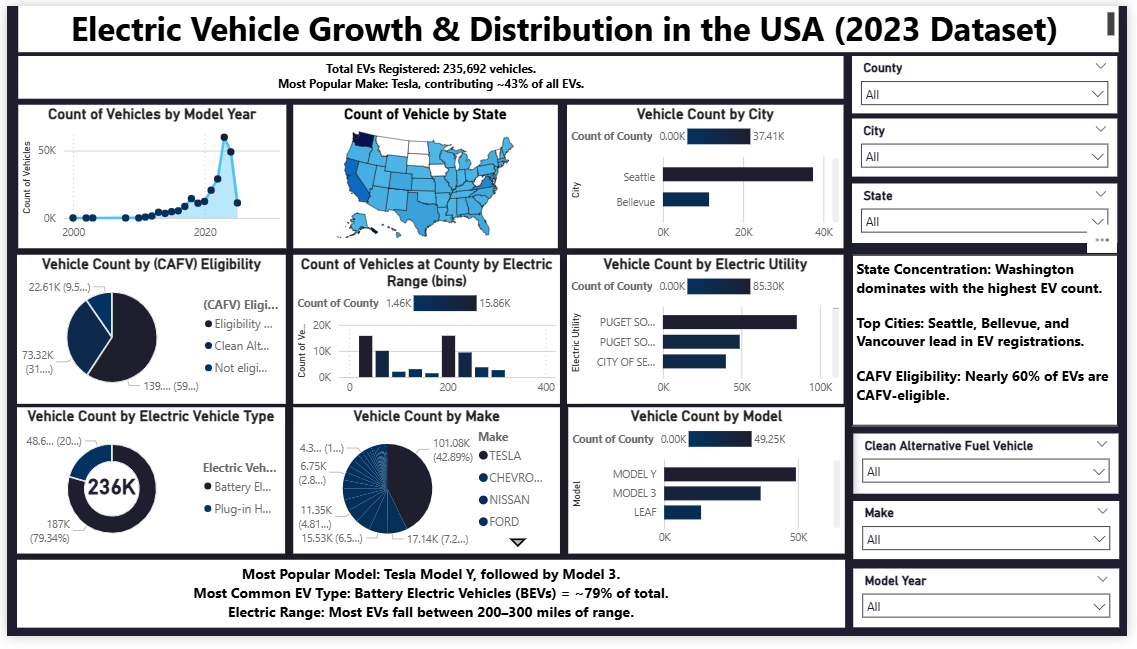

The page's visual inventory and layout, read from the dashboard file:
{"tool":"powerbi","page":{"name":"Page 1","canvas":[1280,720],"ordinal":0},"visuals":[{"type":"textbox","box":[12.5,0,1257.5,52.5],"z":0},{"type":"lineChart","fields":{"Y":["CountNonNull(Electric_Vehicle_Population_Dat.DOL Vehicle ID)"],"Category":["Electric_Vehicle_Population_Dat.Model Year"]},"box":[15,113.3,305,163.3],"z":1000},{"type":"shapeMap","fields":{"Category":["Electric_Vehicle_Population_Dat.State"],"Value":["CountNonNull(Electric_Vehicle_Population_Dat.DOL Vehicle ID)"]},"box":[327.5,112.5,305,164.2],"z":2000},{"type":"clusteredBarChart","fields":{"Category":["Electric_Vehicle_Population_Dat.City"],"Y":["CountNonNull(Electric_Vehicle_Population_Dat.DOL Vehicle ID)"]},"box":[640,112.5,316.2,163.8],"z":3000},{"type":"slicer","fields":{"Values":["Electric_Vehicle_Population_Dat.County"]},"box":[965.4,57.7,303.1,65.4],"z":4000},{"type":"slicer","fields":{"Values":["Electric_Vehicle_Population_Dat.City"]},"box":[965.4,128.5,303.1,66.2],"z":5000},{"type":"slicer","fields":{"Values":["Electric_Vehicle_Population_Dat.State"]},"box":[965.4,202.3,303.1,67.7],"z":6000},{"type":"pieChart","fields":{"Category":["Electric_Vehicle_Population_Dat.Clean Alternative Fuel Vehicle (CAFV) Eligibility"],"Y":["CountNonNull(Electric_Vehicle_Population_Dat.DOL Vehicle ID)"]},"box":[11.7,284.2,308.3,170],"z":7000},{"type":"clusteredColumnChart","fields":{"Y":["CountNonNull(Electric_Vehicle_Population_Dat.DOL Vehicle ID)"],"Category":["Electric_Vehicle_Population_Dat.Electric Range (bins)"]},"box":[327.5,283.8,305,170],"z":8000},{"type":"clusteredBarChart","fields":{"Y":["CountNonNull(Electric_Vehicle_Population_Dat.DOL Vehicle ID)"],"Category":["Electric_Vehicle_Population_Dat.Electric Utility"]},"box":[640,283.8,316.2,170],"z":9000},{"type":"donutChart","fields":{"Y":["CountNonNull(Electric_Vehicle_Population_Dat.DOL Vehicle ID)"],"Category":["Electric_Vehicle_Population_Dat.Electric Vehicle Type"]},"box":[11.2,458.8,306.2,167.5],"z":10000},{"type":"card","fields":{"Values":["CountNonNull(Electric_Vehicle_Population_Dat.DOL Vehicle ID)"]},"box":[82.5,532.5,73.8,32.5],"z":11000},{"type":"slicer","fields":{"Values":["Electric_Vehicle_Population_Dat.Clean Alternative Fuel Vehicle (CAFV) Eligibility"]},"box":[966.9,489.2,303.1,68.5],"z":12000},{"type":"pieChart","fields":{"Y":["CountNonNull(Electric_Vehicle_Population_Dat.DOL Vehicle ID)"],"Category":["Electric_Vehicle_Population_Dat.Make"]},"box":[327.5,458.8,305,167.5],"z":13000},{"type":"clusteredBarChart","fields":{"Y":["CountNonNull(Electric_Vehicle_Population_Dat.DOL Vehicle ID)"],"Category":["Electric_Vehicle_Population_Dat.Model"]},"box":[641.2,458.8,316.2,167.5],"z":14000},{"type":"slicer","fields":{"Values":["Electric_Vehicle_Population_Dat.Make"]},"box":[967.5,566.2,303.8,66.2],"z":15000},{"type":"slicer","fields":{"Values":["Electric_Vehicle_Population_Dat.Model Year"]},"box":[967.5,642.5,303.8,67.5],"z":16000},{"type":"textbox","box":[11.2,632.5,946.2,77.5],"z":17000},{"type":"textbox","box":[966.2,283.8,303.8,196.2],"z":18000},{"type":"textbox","box":[12.8,57.8,943.3,48.9],"z":19000}]}

Visuals, with their boxes in screenshot pixels (x1, y1, x2, y2), scaled from the page's 1280x720 canvas onto the 1137x649 screenshot:
textbox: crop(11, 0, 1128, 47)
lineChart - CountNonNull(Electric_Vehicle_Population_Dat.DOL Vehicle ID) x Electric_Vehicle_Population_Dat.Model Year: crop(13, 102, 284, 249)
shapeMap - Electric_Vehicle_Population_Dat.State x CountNonNull(Electric_Vehicle_Population_Dat.DOL Vehicle ID): crop(291, 101, 562, 249)
clusteredBarChart - Electric_Vehicle_Population_Dat.City x CountNonNull(Electric_Vehicle_Population_Dat.DOL Vehicle ID): crop(568, 101, 849, 249)
slicer - Electric_Vehicle_Population_Dat.County: crop(858, 52, 1127, 111)
slicer - Electric_Vehicle_Population_Dat.City: crop(858, 116, 1127, 176)
slicer - Electric_Vehicle_Population_Dat.State: crop(858, 182, 1127, 243)
pieChart - Electric_Vehicle_Population_Dat.Clean Alternative Fuel Vehicle (CAFV) Eligibility x CountNonNull(Electric_Vehicle_Population_Dat.DOL Vehicle ID): crop(10, 256, 284, 409)
clusteredColumnChart - CountNonNull(Electric_Vehicle_Population_Dat.DOL Vehicle ID) x Electric_Vehicle_Population_Dat.Electric Range (bins): crop(291, 256, 562, 409)
clusteredBarChart - CountNonNull(Electric_Vehicle_Population_Dat.DOL Vehicle ID) x Electric_Vehicle_Population_Dat.Electric Utility: crop(568, 256, 849, 409)
donutChart - CountNonNull(Electric_Vehicle_Population_Dat.DOL Vehicle ID) x Electric_Vehicle_Population_Dat.Electric Vehicle Type: crop(10, 414, 282, 565)
card - CountNonNull(Electric_Vehicle_Population_Dat.DOL Vehicle ID): crop(73, 480, 139, 509)
slicer - Electric_Vehicle_Population_Dat.Clean Alternative Fuel Vehicle (CAFV) Eligibility: crop(859, 441, 1128, 503)
pieChart - CountNonNull(Electric_Vehicle_Population_Dat.DOL Vehicle ID) x Electric_Vehicle_Population_Dat.Make: crop(291, 414, 562, 565)
clusteredBarChart - CountNonNull(Electric_Vehicle_Population_Dat.DOL Vehicle ID) x Electric_Vehicle_Population_Dat.Model: crop(570, 414, 850, 565)
slicer - Electric_Vehicle_Population_Dat.Make: crop(859, 510, 1129, 570)
slicer - Electric_Vehicle_Population_Dat.Model Year: crop(859, 579, 1129, 640)
textbox: crop(10, 570, 850, 640)
textbox: crop(858, 256, 1128, 433)
textbox: crop(11, 52, 849, 96)
